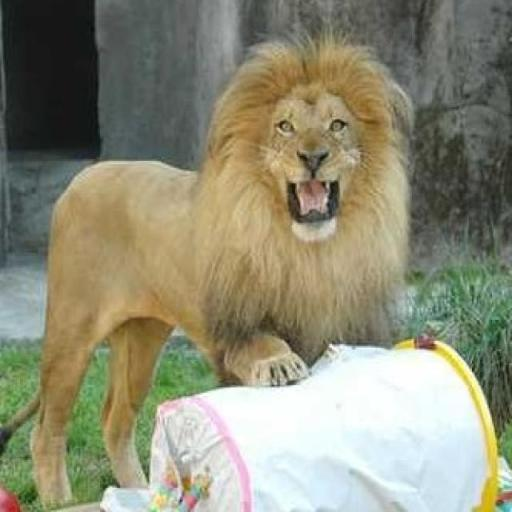Lion: (0, 28, 417, 510)
